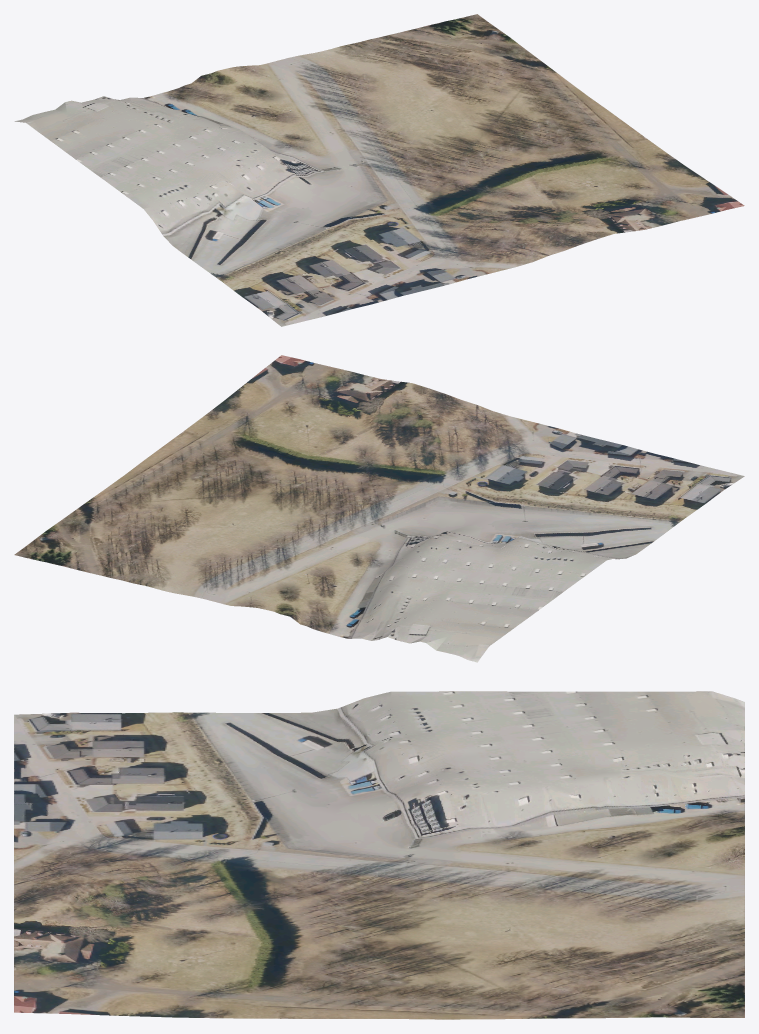
Rendered from CM_Terrain_24491482_6818360.fbx.
3 views of the same model, one above another, from view 1: azimuth 30°, elevation 25°; view 2: azimuth 150°, elevation 25°; view 3: azimuth 270°, elevation 25° (orthographic). The views are drawn at different scales.
Parts seen in each view (by area): view 1: CM_Terrain_24491482_6818360_LOD0; view 2: CM_Terrain_24491482_6818360_LOD0; view 3: CM_Terrain_24491482_6818360_LOD0.
Boxes of the visible parts, bbox=[...] form: CM_Terrain_24491482_6818360_LOD0: bbox=[14, 14, 744, 326]; CM_Terrain_24491482_6818360_LOD0: bbox=[14, 355, 744, 662]; CM_Terrain_24491482_6818360_LOD0: bbox=[14, 691, 744, 1019].
Size of what is drawn, in the model's own units: 205 by 7.77 by 205.
